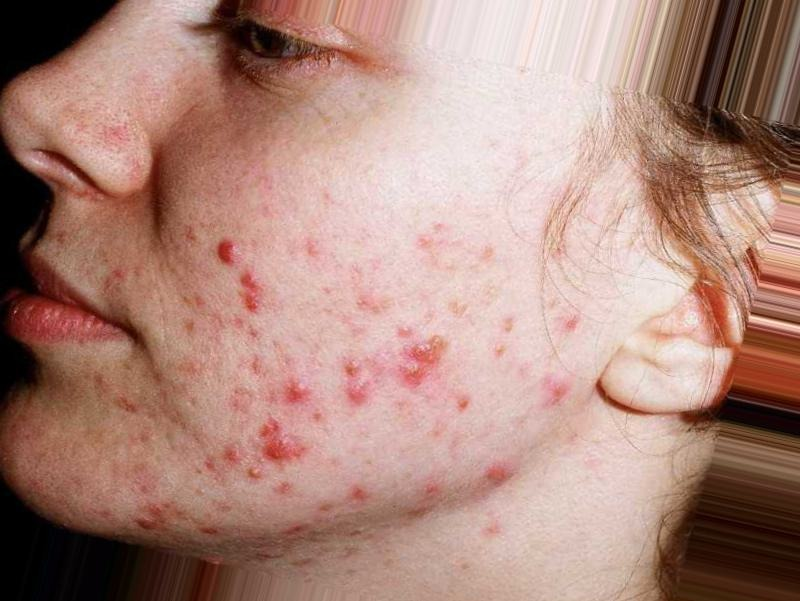Acne: (248, 413, 318, 472), (398, 325, 452, 397), (333, 347, 383, 407), (268, 370, 322, 412), (208, 223, 247, 272)
